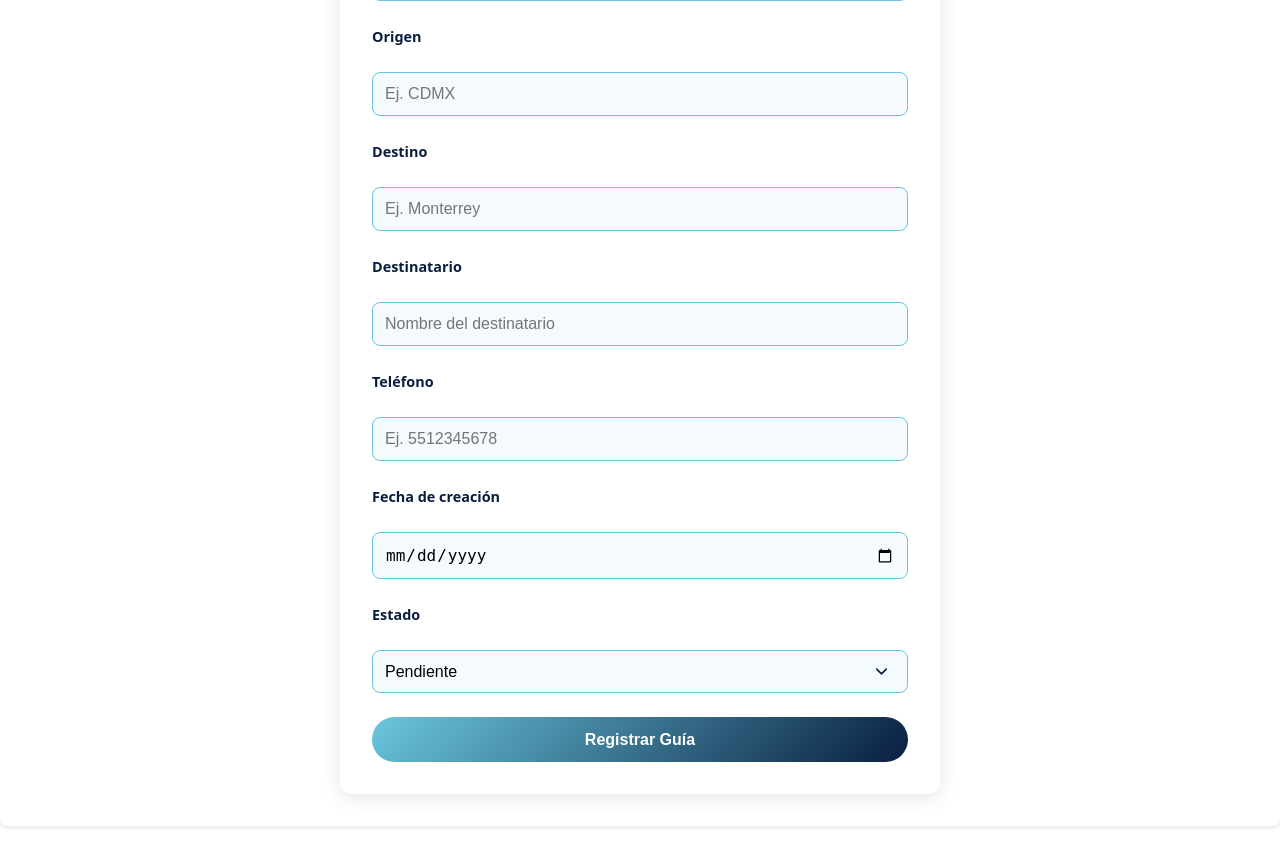
Test: GuideForm › shows error message when submitting empty form
The width and height of the screenshot is (1280, 858).
(page scrolled)
Click the button "Registrar Guía": (640, 740) [372,717,908,762]
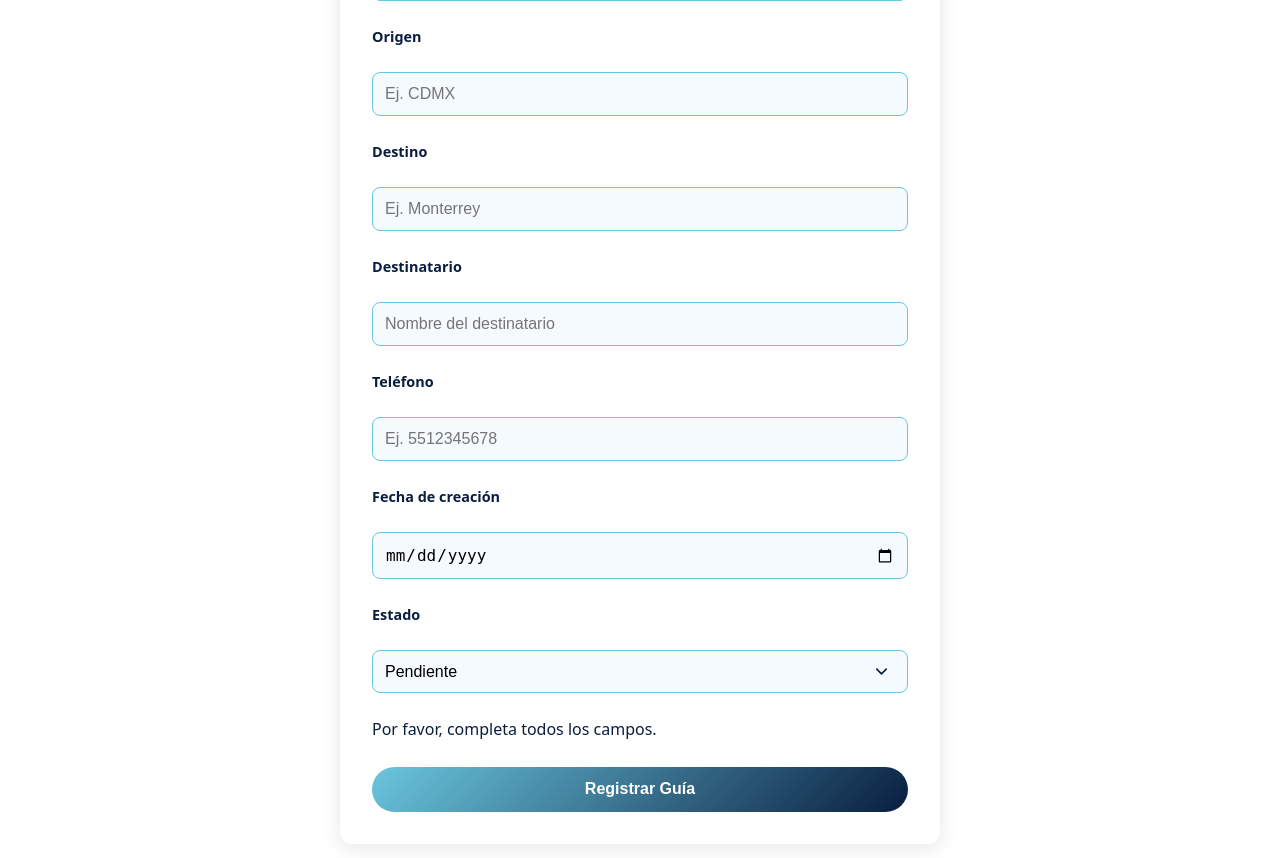
Now the message reads "Por favor, completa todos los campos.", box [372,718,657,740]
